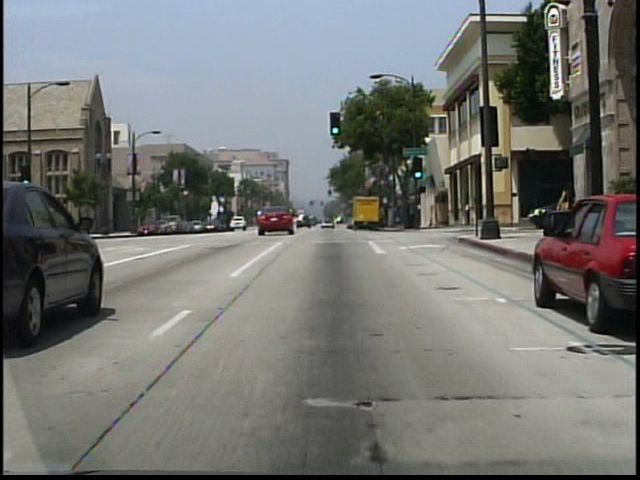person: (548, 180, 572, 239), (466, 199, 472, 229)
